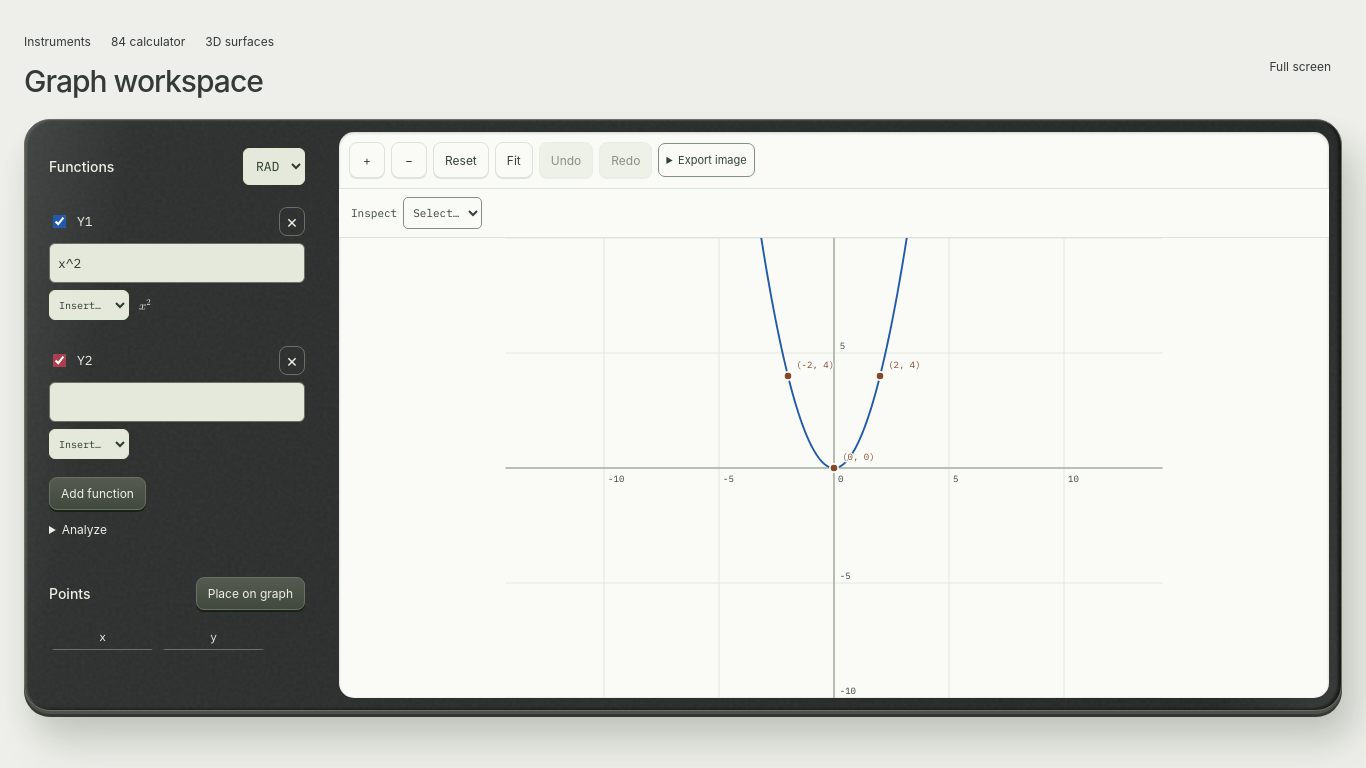
Test: updates selected traces after edits and exposes errors independently
The image size is (1366, 768).
Select "Y1" in the dropdown named "Inspect graph item" at [443, 213], box [403,197,482,229]
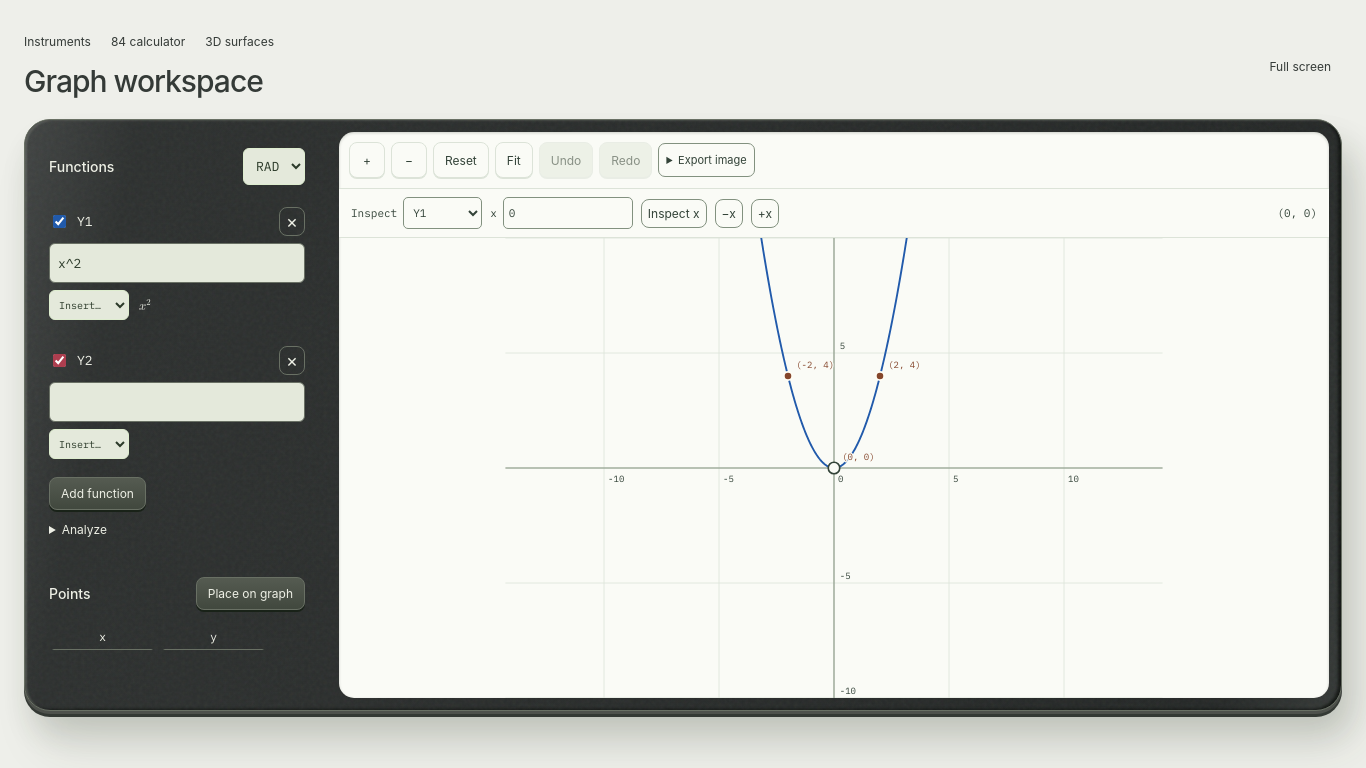
Now the text "(0, 0)" is shown, box [1277,206,1317,220]
Replace the text in the field named "Y1 expression" with "x^2+5" at [177, 263], box [49,243,305,283]
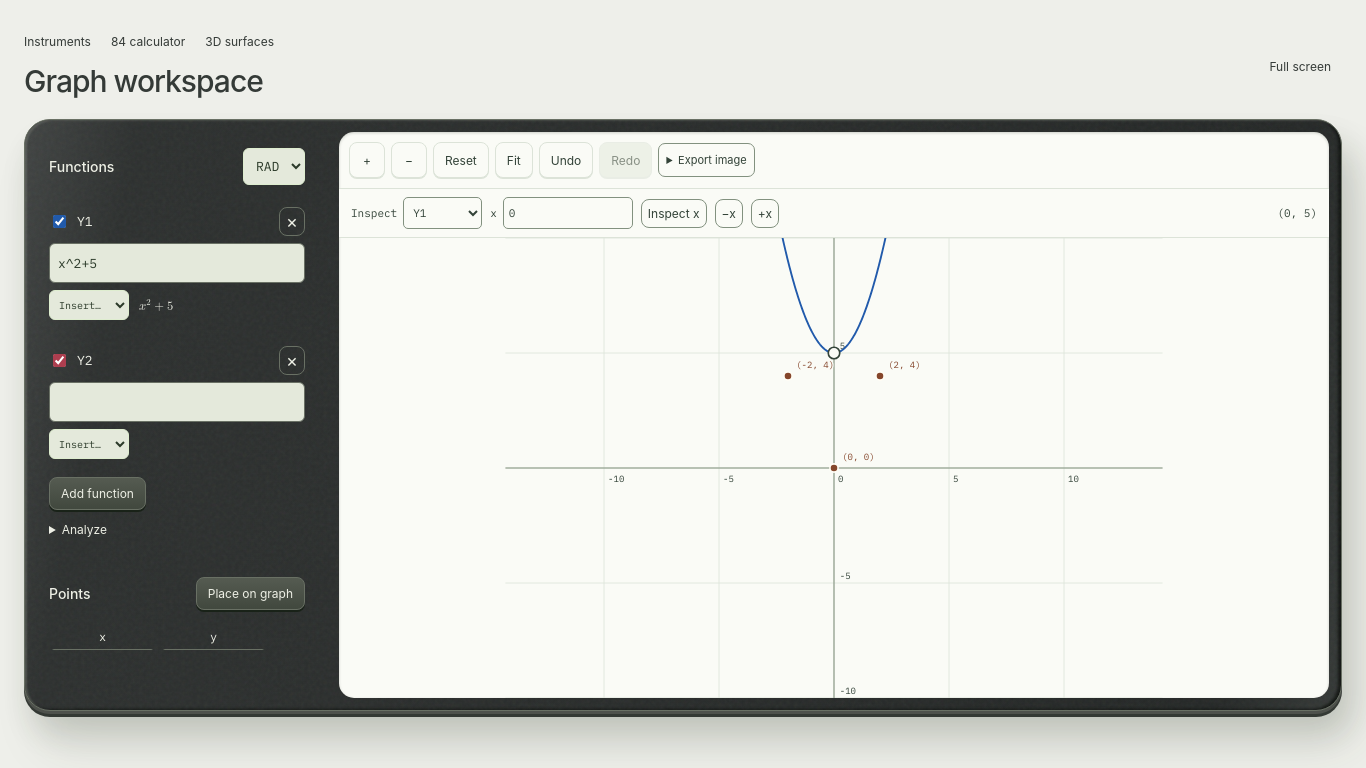
Now the text "(0, 5)" is shown, box [1277,206,1317,220]
Replace the text in the field named "Y1 expression" with "sqrt(-1)" at [177, 263], box [49,243,305,283]
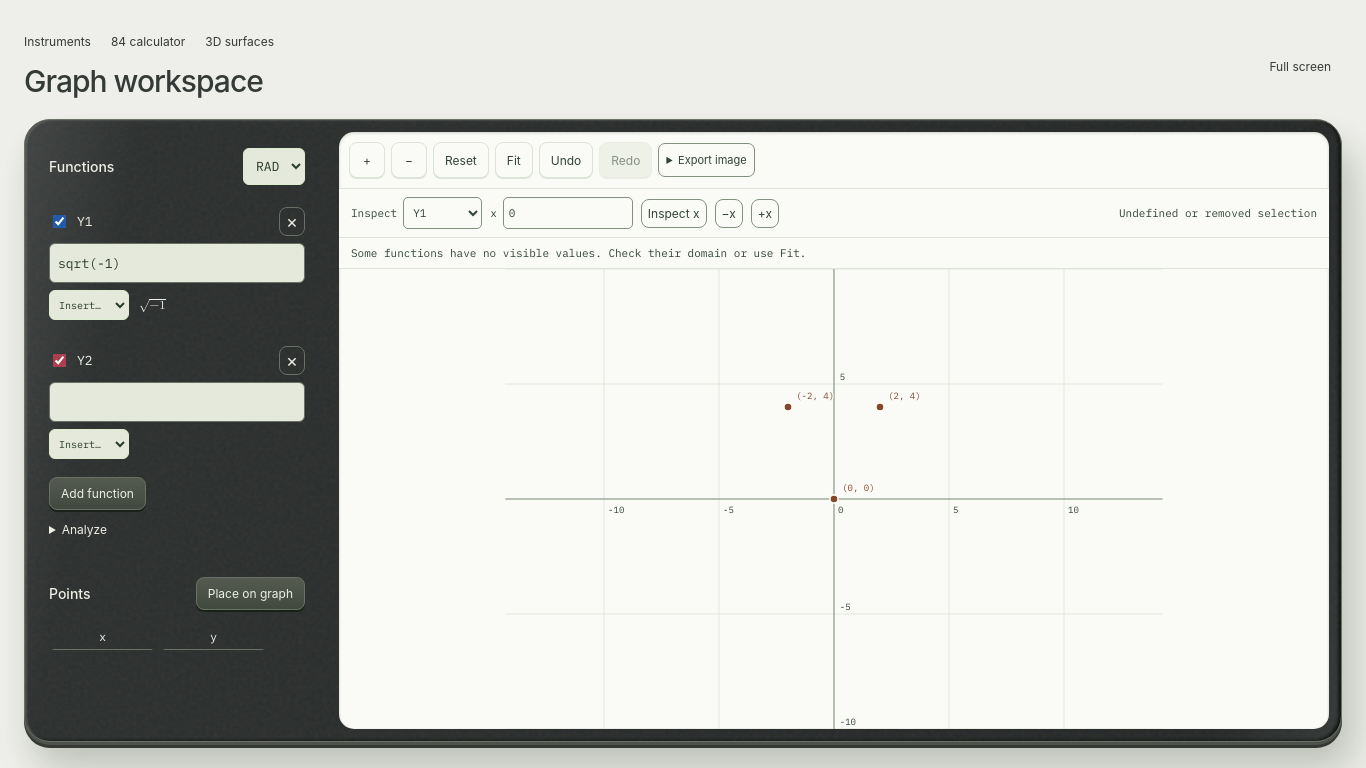
Now the text "Undefined or removed selection" is shown, box [1119,206,1317,220]
